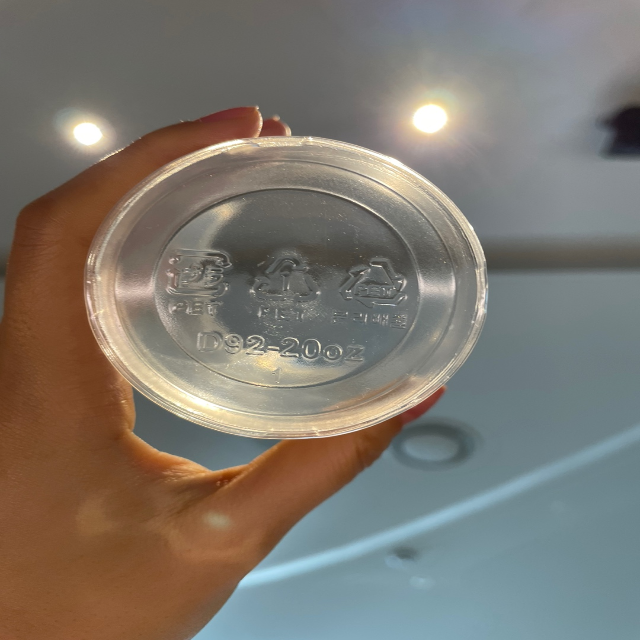pet: (334, 253, 413, 337), (250, 247, 323, 326), (164, 242, 234, 321)
